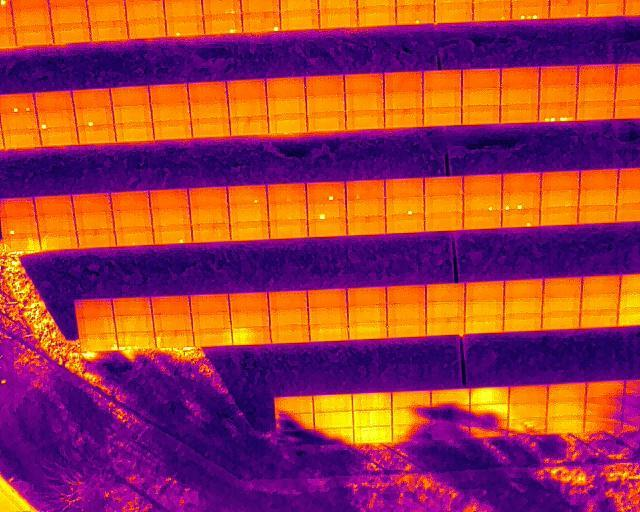Cell: (152, 224, 193, 245), (165, 15, 203, 37), (205, 13, 244, 34), (243, 11, 283, 31), (306, 183, 347, 202), (396, 4, 434, 24), (229, 185, 266, 205), (73, 107, 114, 125), (385, 197, 425, 215), (36, 111, 76, 129), (308, 200, 346, 218), (471, 3, 511, 20), (346, 181, 384, 198), (2, 216, 37, 234), (502, 211, 540, 227), (547, 2, 587, 17), (464, 195, 501, 211)
Cell-Multi: (500, 191, 541, 210), (0, 94, 37, 113), (537, 103, 576, 121), (511, 3, 551, 19), (118, 332, 155, 349)
No-Anomaly: (109, 85, 151, 107), (13, 23, 55, 45), (356, 5, 398, 26), (148, 83, 189, 104), (279, 9, 320, 30), (385, 317, 426, 338), (188, 118, 233, 137), (188, 99, 230, 119), (111, 123, 155, 142), (538, 65, 579, 85), (460, 69, 501, 89), (11, 4, 52, 24), (268, 114, 308, 134), (426, 316, 466, 336), (422, 106, 464, 125), (319, 7, 358, 27), (268, 184, 307, 204), (306, 288, 347, 307), (189, 293, 230, 312), (537, 83, 578, 102), (186, 82, 227, 101), (150, 102, 191, 121), (576, 102, 617, 121), (111, 105, 152, 124), (384, 177, 425, 196), (305, 75, 345, 94), (267, 96, 307, 115), (461, 105, 501, 124), (49, 3, 89, 22), (348, 320, 388, 339), (347, 287, 389, 305), (541, 294, 583, 312), (309, 218, 348, 237), (269, 220, 308, 239), (229, 221, 268, 240), (189, 188, 228, 207), (500, 67, 539, 86), (422, 70, 461, 89), (53, 23, 92, 42), (578, 188, 619, 206), (149, 190, 190, 208), (71, 194, 112, 212), (346, 110, 387, 128), (306, 113, 347, 131), (129, 19, 167, 38), (112, 191, 150, 210), (37, 213, 77, 231), (464, 281, 504, 299), (73, 298, 113, 316), (111, 298, 151, 316), (499, 86, 539, 104), (344, 74, 384, 92), (228, 98, 268, 116), (383, 108, 423, 126), (500, 104, 540, 122), (426, 176, 462, 196), (462, 175, 502, 193), (502, 172, 542, 190), (229, 118, 271, 135), (114, 228, 153, 246), (581, 293, 620, 311), (151, 296, 190, 314), (540, 207, 579, 225), (114, 210, 153, 228), (33, 196, 72, 214), (384, 72, 423, 90), (577, 84, 616, 102), (435, 4, 474, 22), (153, 120, 192, 138), (77, 315, 116, 333), (425, 300, 466, 317), (267, 203, 308, 220), (576, 65, 617, 82), (305, 96, 346, 113), (464, 211, 502, 229), (90, 21, 128, 39), (73, 90, 111, 108), (579, 205, 617, 223), (228, 80, 266, 98), (346, 217, 386, 234), (386, 216, 426, 233), (461, 88, 501, 105), (266, 79, 306, 96), (344, 93, 384, 110), (464, 315, 504, 332), (77, 212, 116, 229), (582, 275, 621, 292), (423, 90, 462, 107), (126, 0, 165, 17), (431, 388, 470, 405), (508, 386, 547, 403), (546, 383, 585, 400), (193, 311, 232, 328), (579, 170, 618, 187), (114, 315, 153, 332), (271, 326, 310, 343), (311, 395, 352, 411), (77, 230, 113, 248), (389, 286, 427, 303), (192, 224, 230, 241), (505, 278, 543, 295), (271, 309, 309, 326), (347, 200, 385, 217), (88, 3, 126, 20), (2, 113, 40, 130), (232, 310, 270, 327), (195, 328, 233, 345), (229, 293, 269, 309), (383, 91, 423, 107), (190, 207, 230, 223), (423, 197, 463, 213), (352, 393, 392, 409), (470, 387, 510, 403), (38, 129, 78, 145), (580, 312, 620, 328), (232, 326, 272, 342), (346, 306, 388, 321), (542, 170, 579, 187), (543, 277, 582, 293), (585, 0, 624, 16), (3, 131, 42, 147), (76, 127, 115, 143), (309, 325, 348, 341), (464, 299, 505, 314), (352, 410, 393, 425), (542, 189, 578, 206), (36, 92, 70, 110), (427, 284, 465, 300), (230, 205, 268, 221), (275, 396, 313, 412), (314, 412, 352, 428), (386, 303, 426, 318), (353, 426, 393, 441), (1, 197, 34, 215), (41, 230, 78, 246), (269, 292, 306, 308), (309, 308, 346, 324), (510, 402, 547, 418), (504, 297, 543, 312), (151, 209, 190, 224), (392, 392, 431, 407), (547, 401, 585, 416), (503, 314, 541, 329), (154, 315, 192, 330), (426, 215, 463, 230), (542, 313, 581, 327), (548, 417, 582, 433), (164, 0, 202, 14)
Shadowing: (314, 425, 354, 445), (391, 408, 432, 426), (585, 381, 624, 399), (429, 421, 470, 438), (276, 412, 314, 430), (392, 423, 430, 441), (469, 403, 509, 420), (431, 405, 471, 422), (507, 418, 547, 435), (469, 420, 509, 437), (585, 399, 623, 415), (583, 416, 620, 430)
Unclassified: (155, 330, 195, 348), (80, 332, 118, 350)
